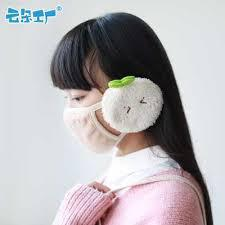OK: (63, 77, 142, 158)
